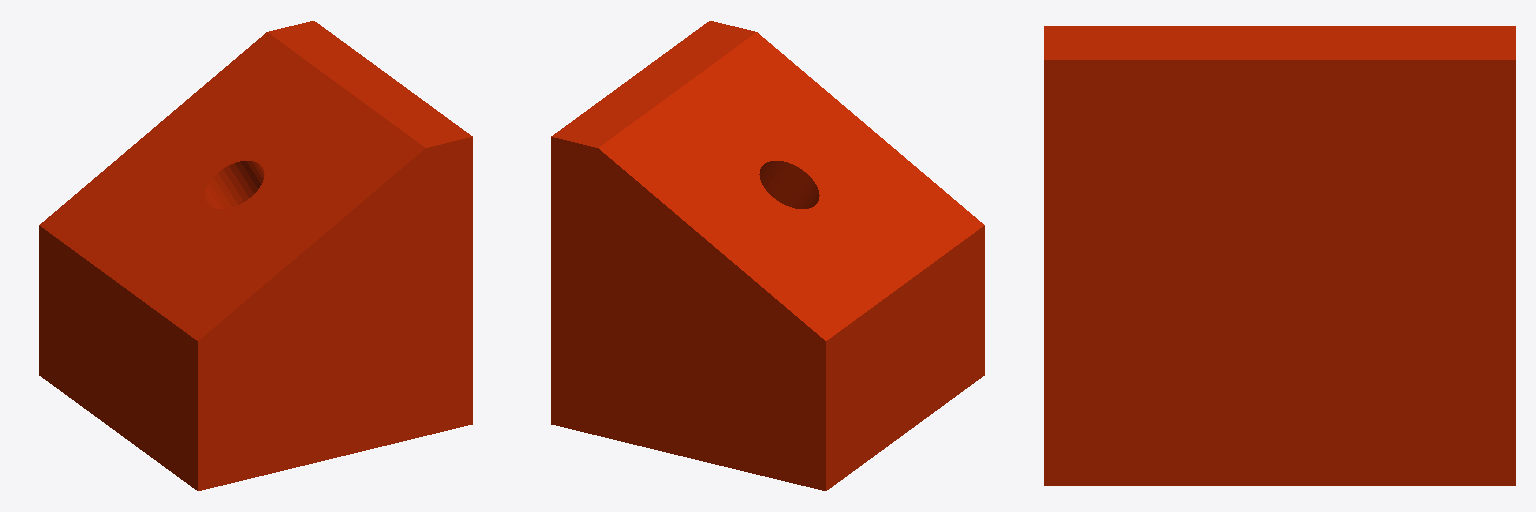
robot.urdf — TestTubeSlot:
<robot name="TestTubeSlot">
  <link name="TestTubeSlot">
    <inertial>
      <origin xyz="0.0052948761963720215 -7.163103429186542e-11 0.041571211512489076" />
      <mass value="1.0" />
      <inertia ixx="0.001520898858763751" ixy="-5.441175154035476e-13" ixz="-0.00022305455946019395" iyy="0.001470447871327681" iyz="2.7061057669362484e-12" izz="0.0016737092882746429" />
    </inertial>
    <visual>
      <geometry>
        <mesh filename="TestTubeSlot_visual.obj" />
      </geometry>
      <material name="TestTubeSlot_original_color">
        <color rgba="0.7990986704826355 0.21586069464683533 0.04970664158463478 1.0" />
      </material>
    </visual>
    <collision>
      <geometry>
        <mesh filename="TestTubeSlot.obj" />
      </geometry>
    </collision>
  </link>
</robot>

--- Render facts (derived) ---
3 views of the same robot in one strip: view 1: azimuth 30°, elevation 25°; view 2: azimuth 150°, elevation 25°; view 3: azimuth 270°, elevation 25° (orthographic).
Robot: TestTubeSlot — 1 links, 0 joints (none); root link TestTubeSlot; default pose: every joint at zero.
Links seen in each view (by area): view 1: TestTubeSlot; view 2: TestTubeSlot; view 3: TestTubeSlot.
Boxes of the visible links, x1,y1,x2,y2 form: TestTubeSlot: (39,21,472,490); TestTubeSlot: (551,21,984,490); TestTubeSlot: (1044,26,1515,485).
Bounding box of the posed robot: 0.1 × 0.1 × 0.1 m (x, y, z).
1 mesh visuals loaded from 1 distinct referenced files (1 OBJ).
